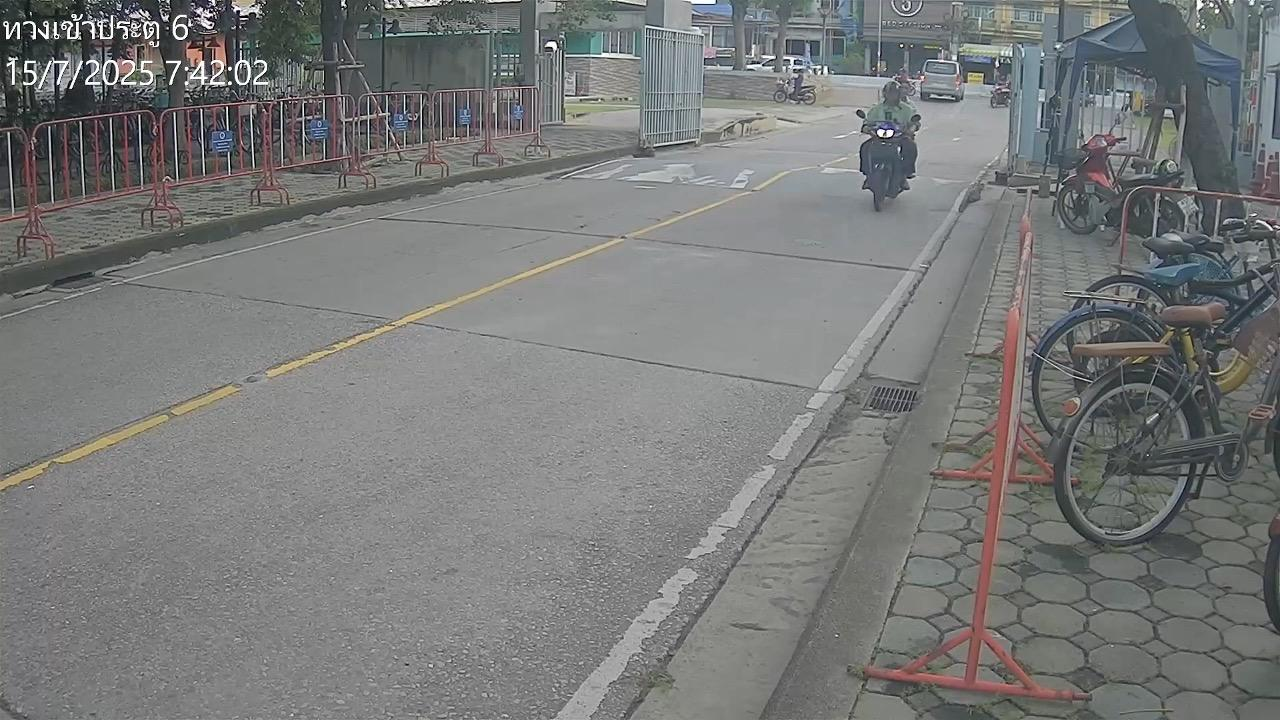With-Helmet: (882, 81, 902, 105)
